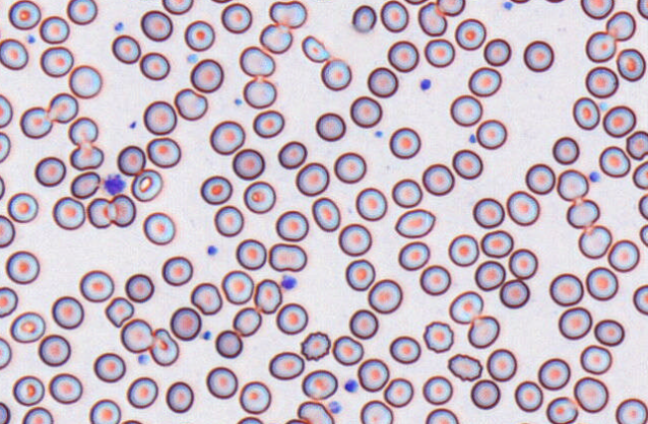PLT: (103, 170, 126, 193), (279, 274, 298, 290), (326, 399, 342, 414), (343, 379, 359, 393), (419, 76, 433, 90), (200, 329, 214, 342), (467, 131, 478, 145), (590, 170, 600, 183), (186, 53, 199, 63), (207, 245, 218, 256), (114, 21, 126, 31), (26, 33, 36, 44), (137, 354, 147, 365), (503, 3, 513, 11), (375, 129, 384, 137), (234, 98, 240, 106)
RBC: (573, 376, 608, 413), (394, 208, 435, 238), (577, 224, 612, 259), (367, 278, 402, 313), (506, 190, 540, 226), (209, 120, 245, 154), (448, 290, 483, 324), (143, 100, 177, 135), (295, 161, 329, 196), (149, 327, 179, 366), (189, 58, 223, 92), (549, 272, 583, 306), (68, 64, 102, 98), (5, 250, 39, 284), (120, 318, 153, 353), (221, 269, 254, 304), (79, 269, 114, 302), (239, 45, 275, 77), (268, 242, 306, 272), (558, 306, 592, 339), (585, 266, 618, 300), (238, 380, 271, 414), (51, 295, 84, 329), (52, 196, 85, 230), (142, 211, 175, 245), (10, 311, 45, 343), (146, 136, 181, 168), (301, 369, 337, 400), (268, 0, 307, 28), (537, 357, 570, 390), (388, 126, 421, 159), (205, 366, 238, 399), (174, 87, 207, 120), (556, 168, 589, 201), (338, 223, 371, 256), (467, 314, 499, 348), (242, 76, 276, 108), (169, 306, 201, 340), (357, 358, 389, 392), (48, 372, 82, 404), (602, 105, 636, 137), (355, 187, 387, 221), (19, 106, 52, 138), (449, 94, 482, 126), (38, 333, 70, 366), (585, 66, 618, 98), (607, 239, 639, 272), (349, 95, 382, 127), (130, 168, 162, 201), (275, 302, 308, 334), (232, 148, 265, 180), (333, 151, 366, 183), (190, 282, 222, 315), (243, 180, 275, 213), (417, 1, 447, 36), (268, 351, 304, 380), (126, 376, 158, 408), (454, 18, 486, 50), (598, 145, 630, 177), (140, 9, 172, 41), (422, 163, 454, 195), (387, 40, 419, 72), (320, 57, 351, 90), (40, 46, 73, 77), (448, 233, 479, 266), (275, 210, 308, 241), (566, 198, 600, 228), (253, 278, 282, 313), (311, 196, 340, 231), (422, 320, 453, 352), (585, 30, 616, 62), (523, 40, 554, 72), (475, 118, 507, 149), (419, 264, 451, 295), (220, 2, 252, 33), (451, 148, 483, 179), (474, 259, 505, 291), (184, 19, 215, 51), (472, 197, 504, 228), (235, 238, 266, 270), (161, 255, 193, 286), (8, 0, 41, 30), (259, 23, 292, 53), (468, 66, 501, 96), (486, 348, 516, 381), (397, 240, 430, 270), (579, 344, 612, 374), (345, 258, 375, 291), (447, 353, 482, 381), (47, 92, 78, 123), (605, 10, 636, 41), (367, 66, 398, 97), (7, 191, 38, 222), (213, 205, 244, 236), (93, 352, 125, 382), (12, 375, 44, 405), (34, 156, 66, 186), (616, 48, 645, 81), (480, 229, 513, 258), (572, 96, 600, 130), (315, 111, 346, 141), (348, 308, 378, 339), (332, 335, 363, 365), (525, 163, 555, 194), (514, 380, 543, 412), (165, 381, 194, 413), (389, 335, 421, 364), (252, 109, 284, 138), (200, 175, 232, 204), (108, 193, 136, 226), (0, 37, 28, 70), (69, 143, 103, 170), (470, 379, 500, 409), (300, 331, 330, 361), (232, 306, 262, 336), (499, 278, 529, 308), (383, 377, 413, 407), (422, 375, 452, 405), (139, 51, 170, 80), (508, 248, 537, 279), (116, 144, 145, 175), (391, 178, 422, 207), (380, 0, 408, 32), (68, 116, 98, 145), (70, 170, 100, 199), (111, 34, 141, 63), (424, 38, 454, 67), (124, 273, 154, 302), (277, 140, 307, 169), (593, 318, 624, 346), (546, 396, 578, 423), (297, 400, 334, 423), (39, 15, 69, 43), (615, 397, 647, 423), (359, 399, 393, 423), (214, 329, 242, 358), (483, 37, 511, 66), (86, 197, 112, 228), (89, 398, 121, 423), (552, 136, 579, 164), (66, 0, 97, 24), (351, 4, 376, 32), (580, 0, 614, 19), (626, 130, 647, 160), (0, 286, 18, 317), (21, 406, 53, 423), (425, 407, 458, 423), (0, 214, 15, 247), (632, 284, 647, 315), (436, 0, 465, 16), (161, 0, 193, 14), (0, 93, 13, 127), (632, 160, 647, 189), (0, 336, 11, 369), (0, 131, 10, 162), (638, 193, 647, 219), (0, 401, 10, 423), (236, 415, 263, 423), (637, 0, 648, 19), (639, 223, 647, 247), (284, 417, 309, 423), (0, 174, 5, 199), (404, 0, 427, 5), (119, 419, 142, 423), (543, 0, 566, 3), (210, 0, 232, 3), (509, 0, 530, 3)
Schistocyte: (105, 296, 136, 328), (301, 34, 332, 64)
